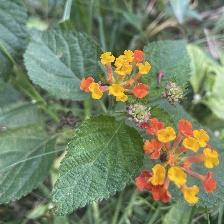common lanthana: (80, 46, 160, 106)
